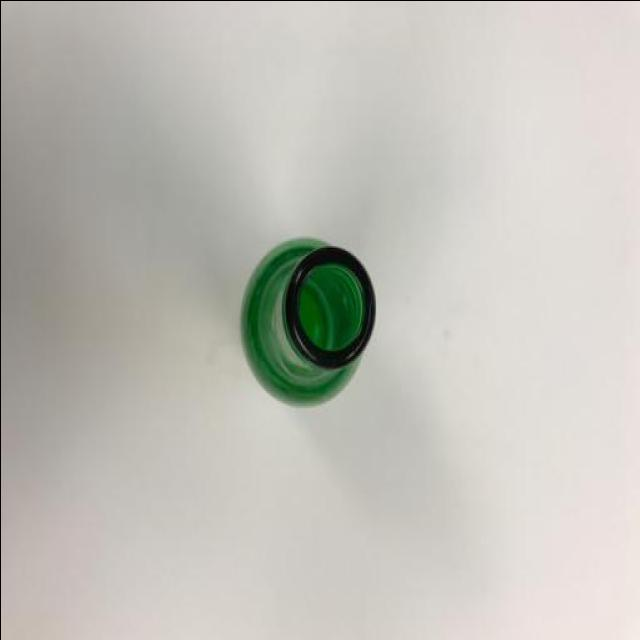glass: (240, 242, 374, 408)
